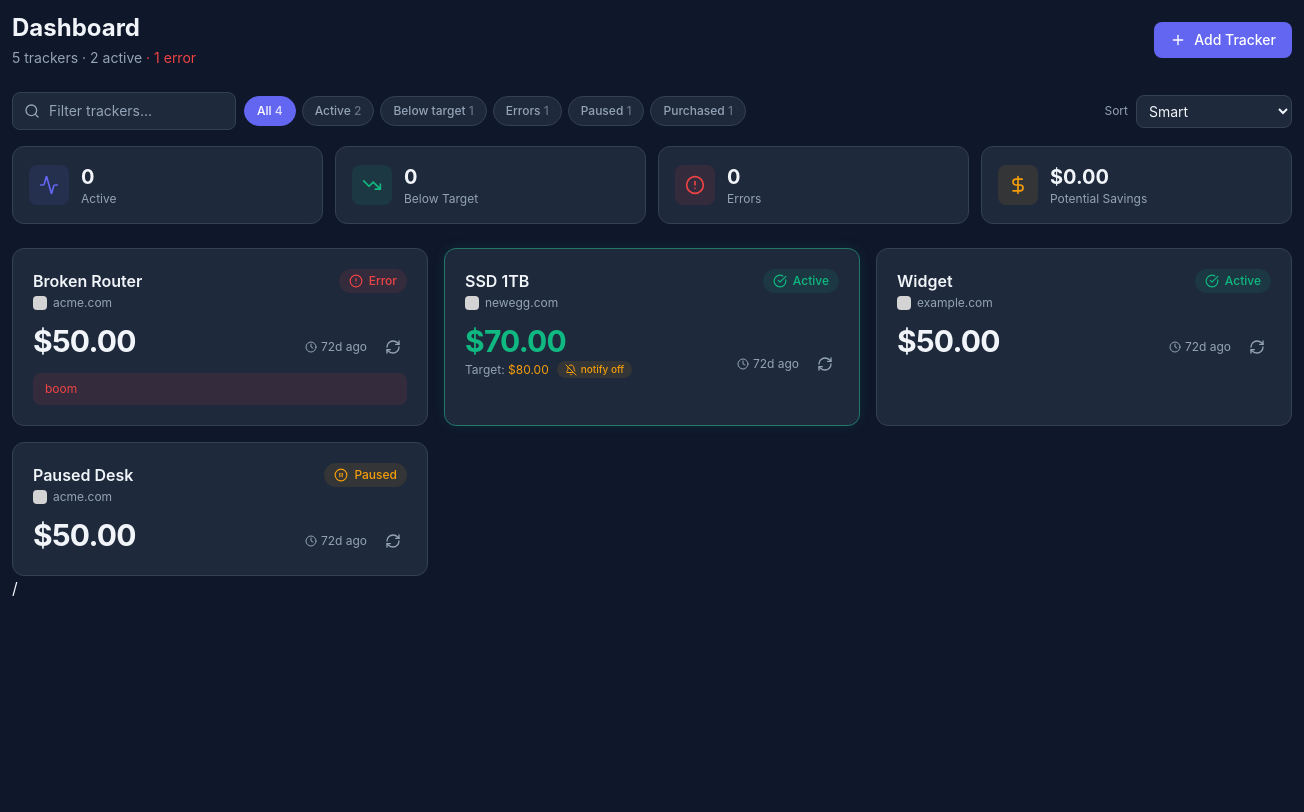
Test: Dashboard › toolbar › filter chips show live counts and filter the grid
Expected: the heading "Dashboard" is shown, [12, 13, 140, 42]
Step 1. Click the button "Errors 1" → click(527, 111), box [493, 96, 562, 126]
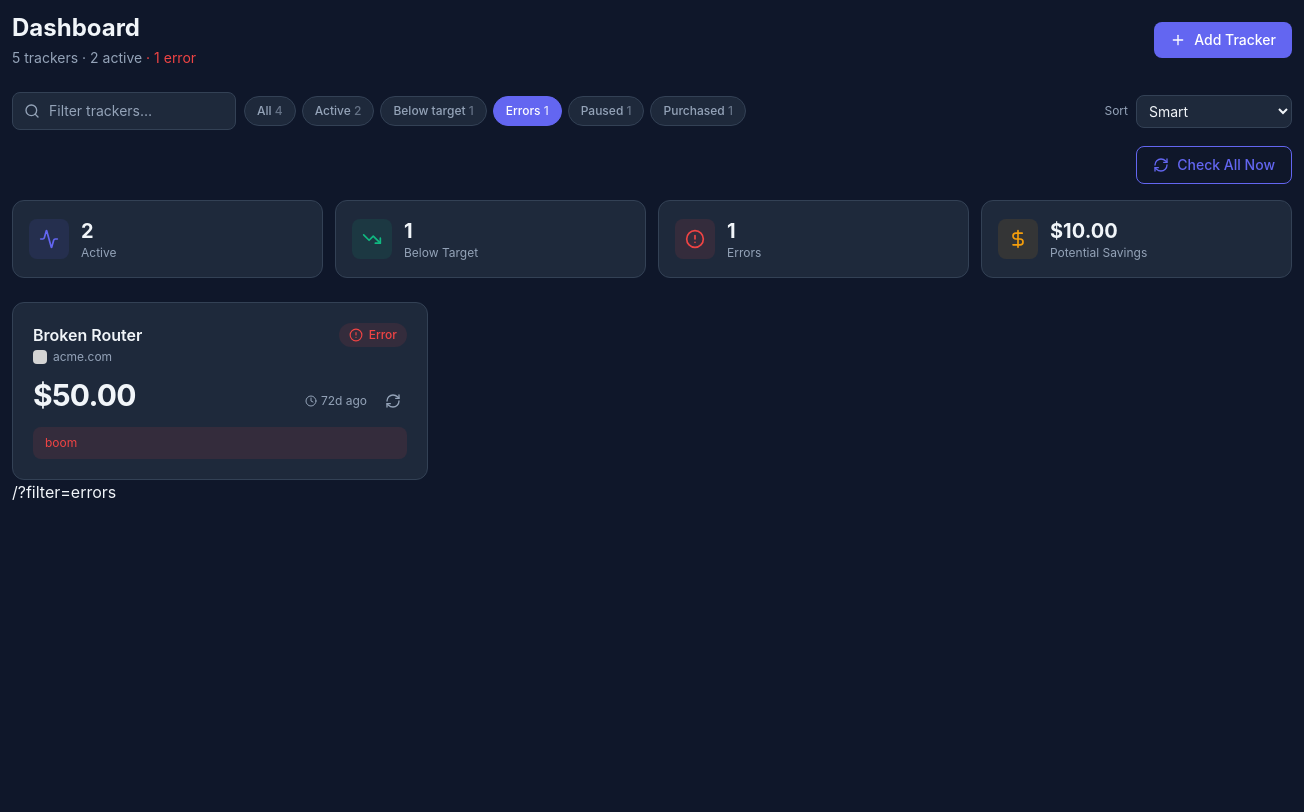
Now the link "Widget" is gone
Now the link "SSD 1TB" is gone
Now the link "Paused Desk" is gone
